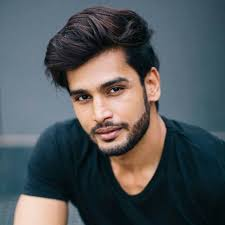Indian_Male: (61, 60, 152, 163)
